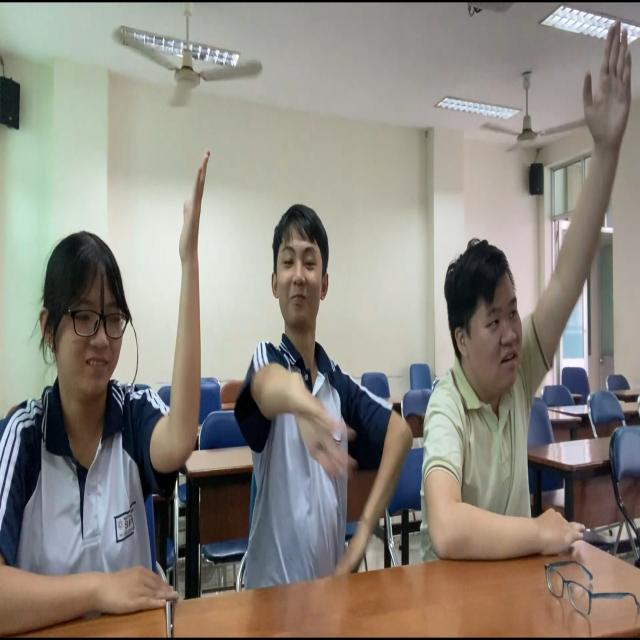raise_hand: (422, 20, 633, 600), (1, 148, 224, 640)
